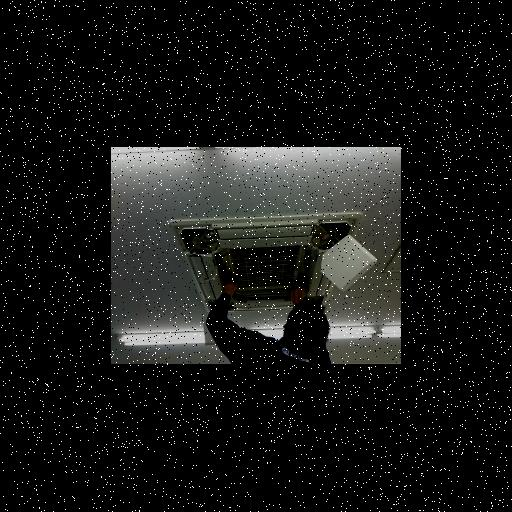4-way-ac: (169, 212, 363, 313)
